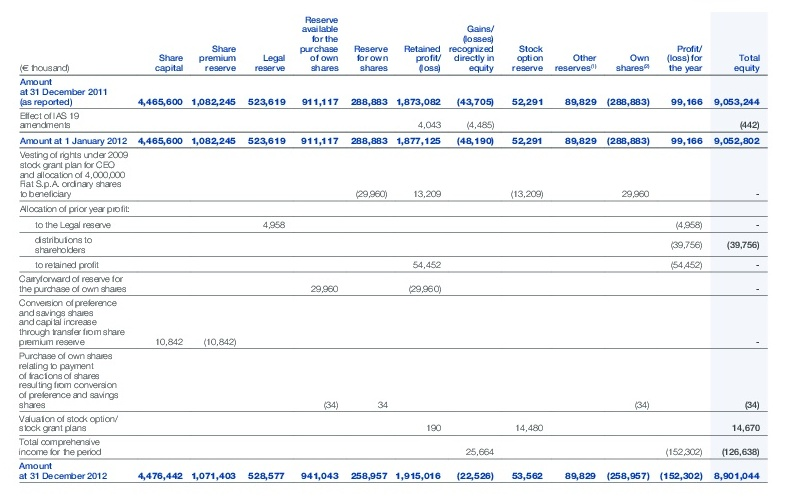table: (0, 0, 788, 502)
